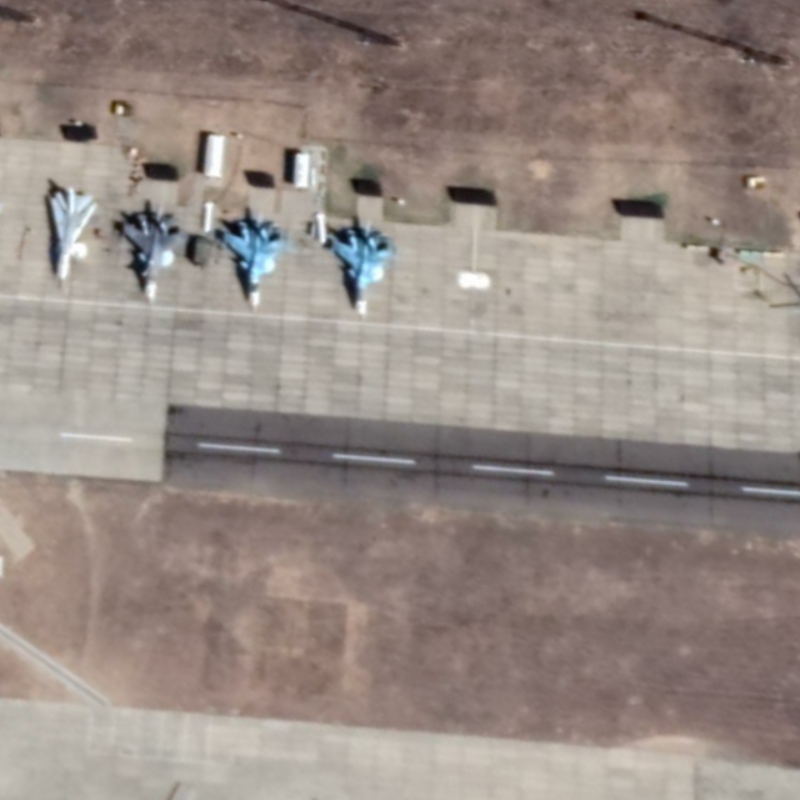A19: (113, 200, 191, 303), (325, 219, 400, 321), (218, 211, 294, 311)
A20: (43, 182, 100, 285)
